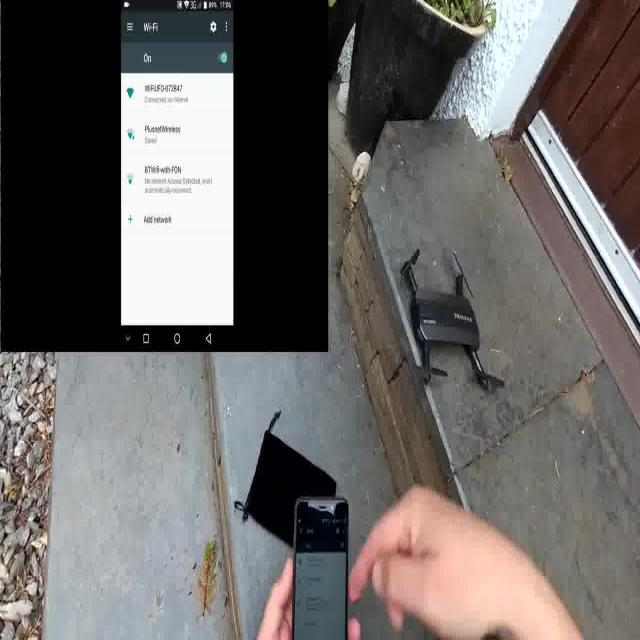drone: (399, 245, 506, 399)
